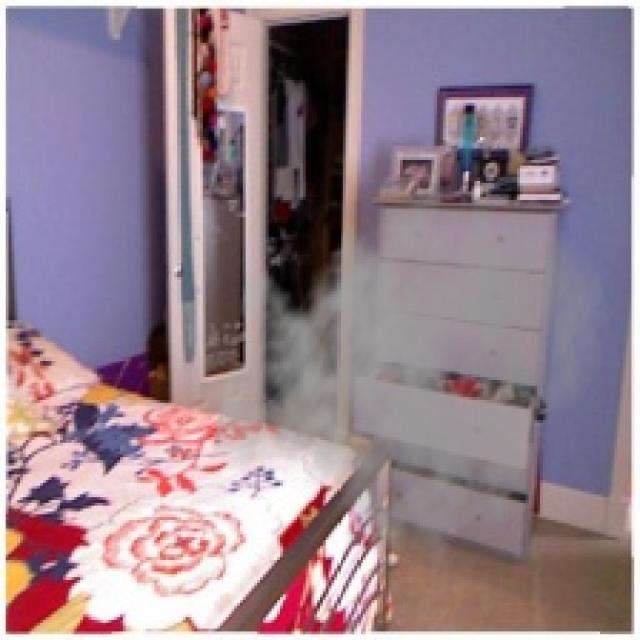smoke: (208, 160, 612, 571)
